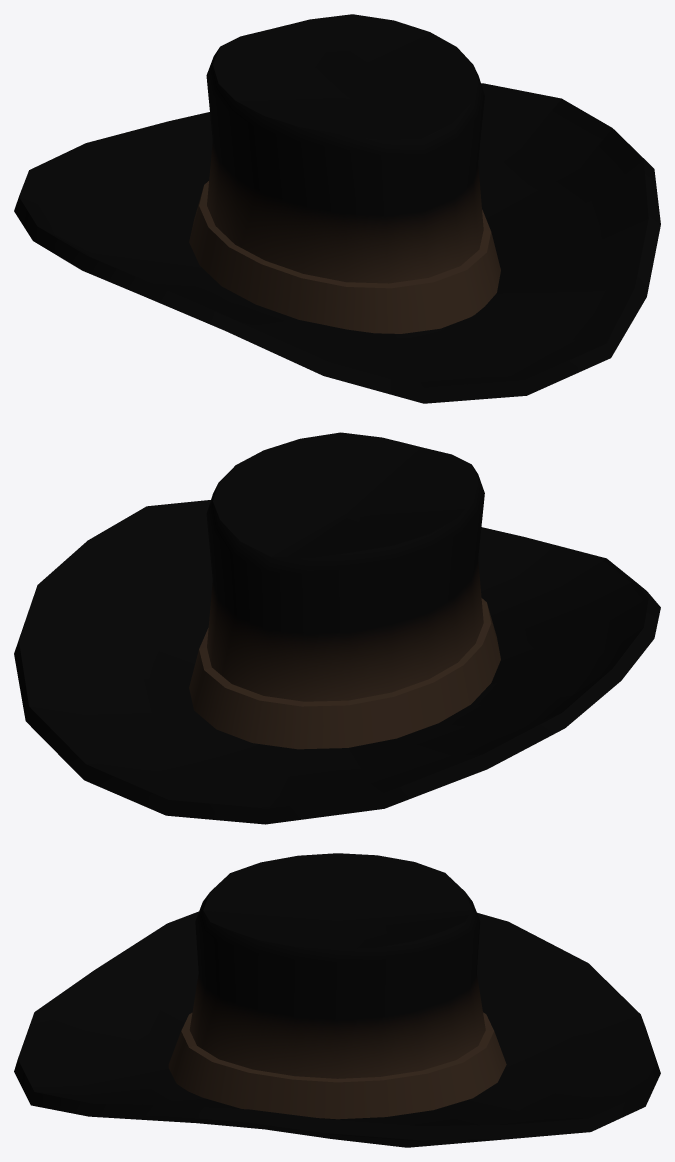
Rendered from SheriffHat.fbx.
The picture shows the model from 3 angles, top to bottom: view 1: azimuth 30°, elevation 25°; view 2: azimuth 150°, elevation 25°; view 3: azimuth 270°, elevation 25°; orthographic projection. The views are drawn at different scales.
Parts seen in each view (by area): view 1: SheriffHat; view 2: SheriffHat; view 3: SheriffHat.
Part boxes in pixels (<box>): SheriffHat: <box>14,14,660,403</box>; SheriffHat: <box>14,432,660,824</box>; SheriffHat: <box>14,853,660,1147</box>.
Size of the model in its own units: 0.2368 by 0.0858 by 0.2746.
